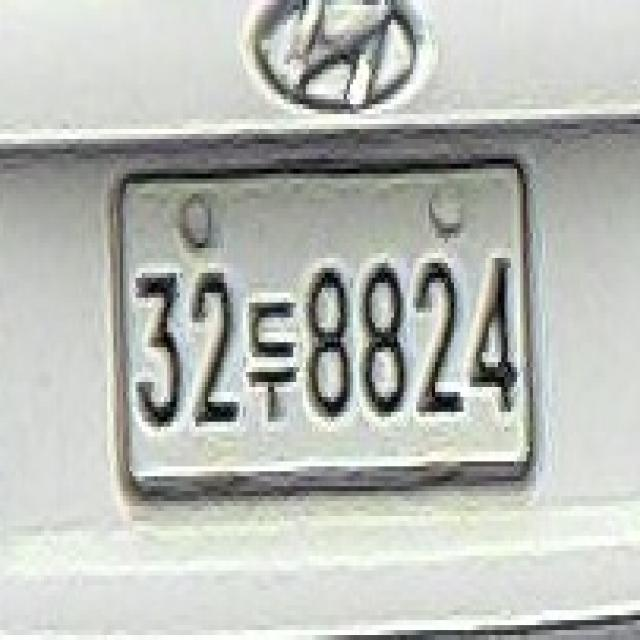2: (410, 253, 463, 417), (186, 268, 240, 422)
3: (126, 263, 186, 437)
4: (467, 253, 520, 417)
8: (300, 258, 356, 417), (359, 253, 410, 422)
du: (243, 298, 296, 427)
license_plate: (113, 174, 530, 476)
